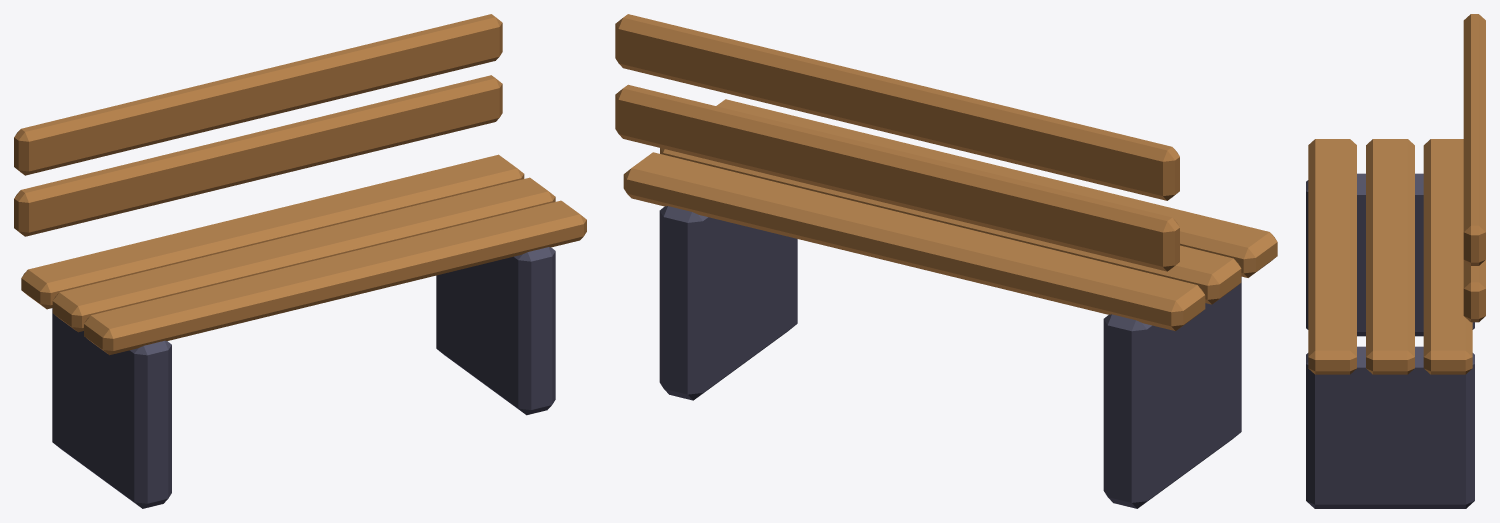
The model's file is Bench.glb.
3 renders of one model, left to right at view 1: azimuth 30°, elevation 25°; view 2: azimuth 150°, elevation 25°; view 3: azimuth 270°, elevation 25°, orthographic. The views are drawn at different scales.
Parts seen in each view (by area): view 1: Bench; view 2: Bench; view 3: Bench.
Boxes of the visible parts, left/top/right/bottom form: Bench: left=14, top=14, right=586, bottom=508; Bench: left=615, top=14, right=1277, bottom=508; Bench: left=1306, top=14, right=1485, bottom=508.
Bounding box in the file's own units: 5.8 × 3.7 × 2.03.
1 material, 1 textured.
